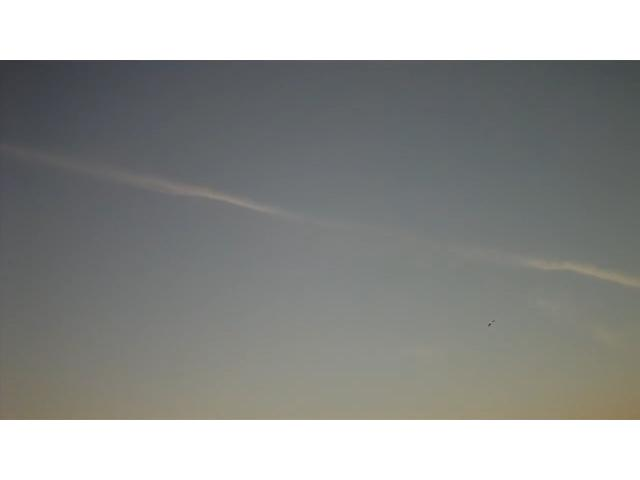Anti-Drone: (478, 316, 502, 332)
